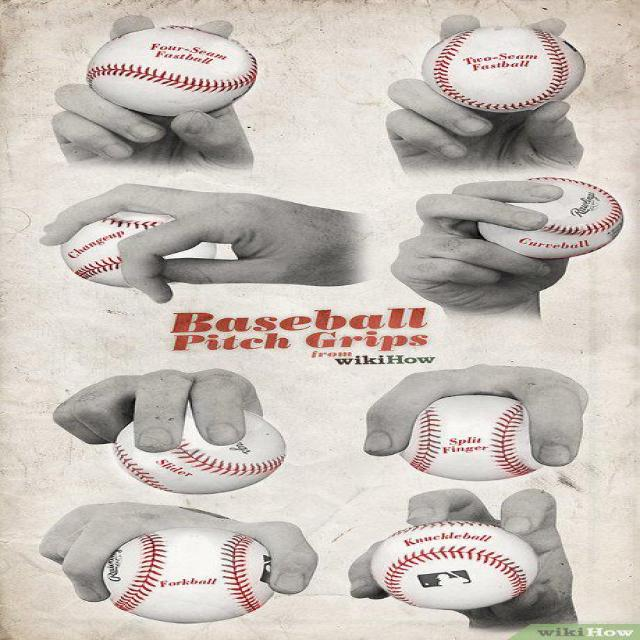baseball: (106, 527, 275, 620), (86, 26, 256, 113), (367, 521, 536, 608), (117, 412, 284, 491), (420, 30, 584, 110), (407, 400, 545, 480), (486, 178, 623, 256), (62, 214, 148, 281)
